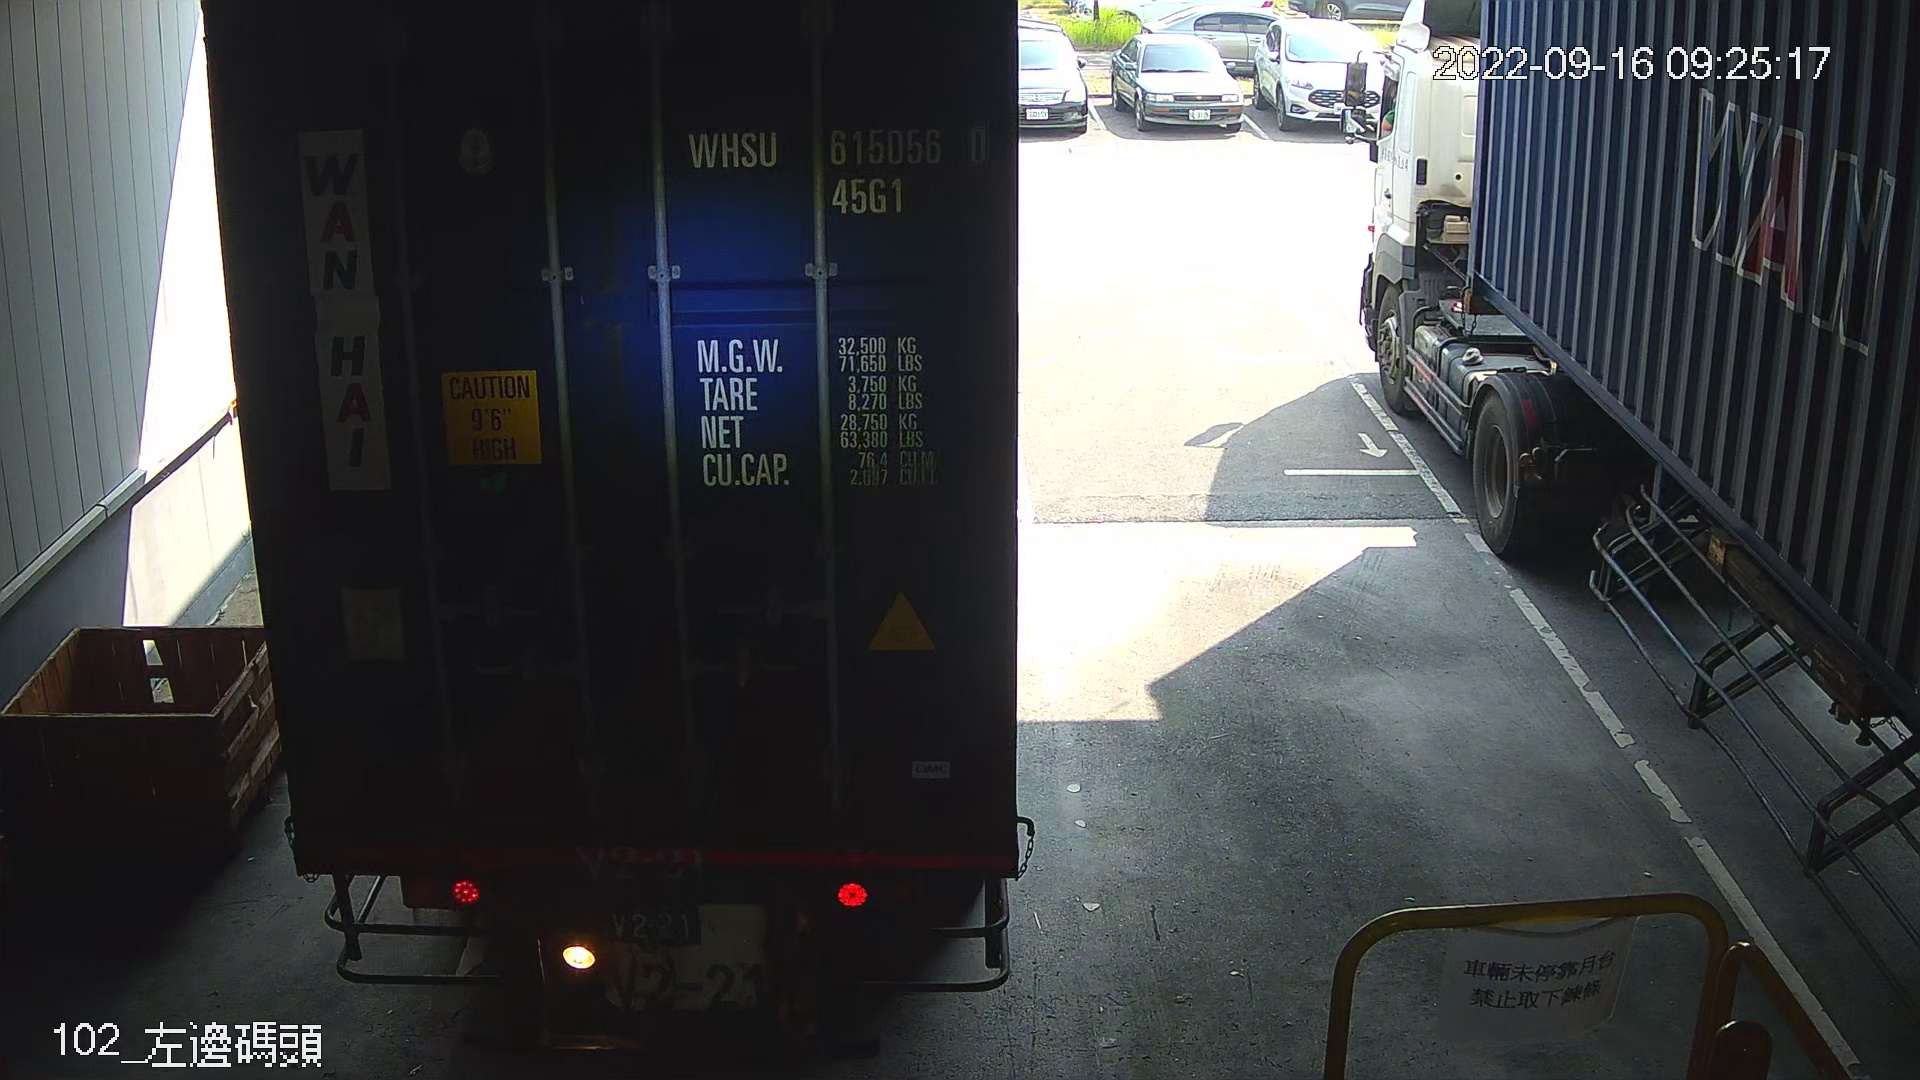container: (675, 116, 1000, 224)
